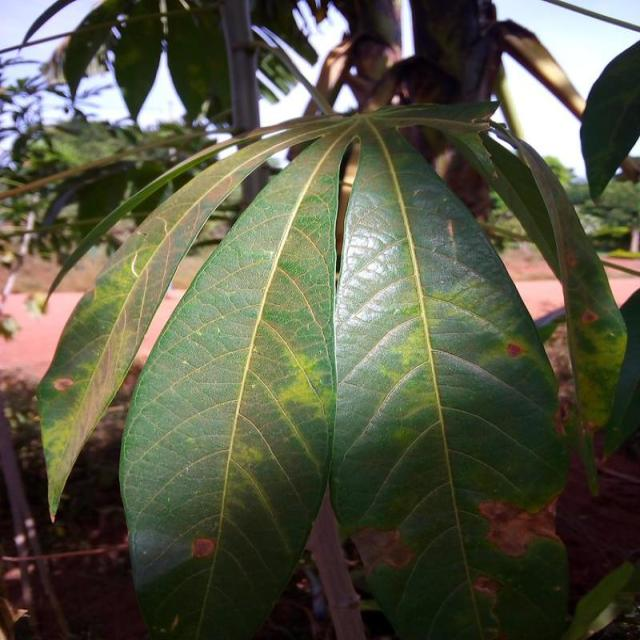cassava leaf: (328, 119, 570, 637), (117, 120, 350, 638)
